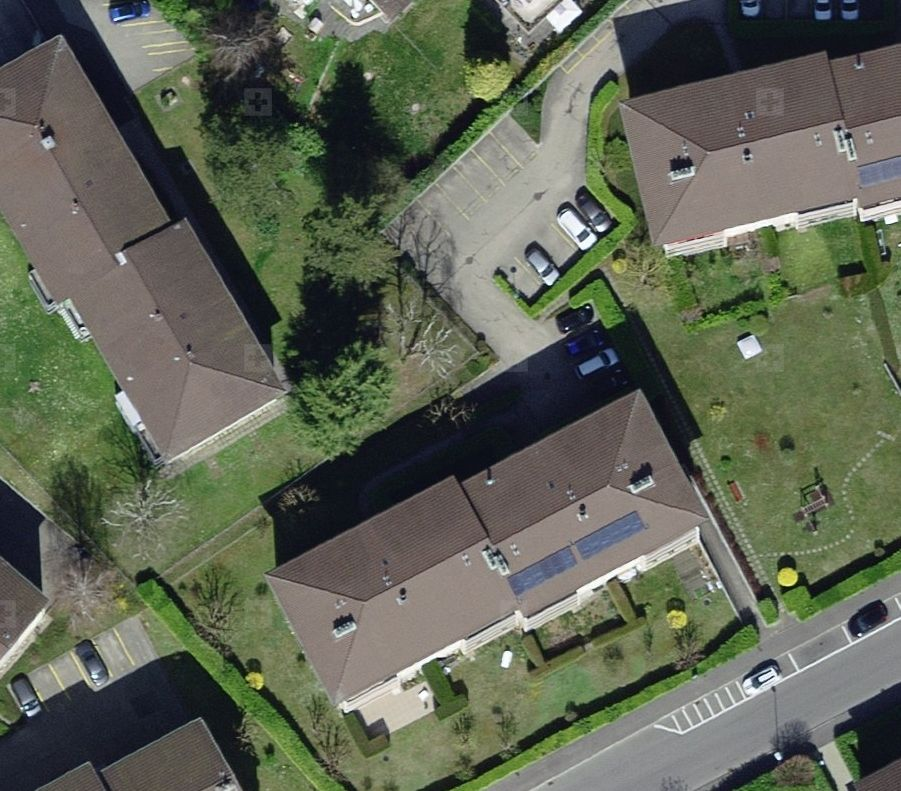solar: (498, 505, 656, 602), (500, 537, 585, 602), (563, 505, 653, 566), (846, 148, 901, 195)
